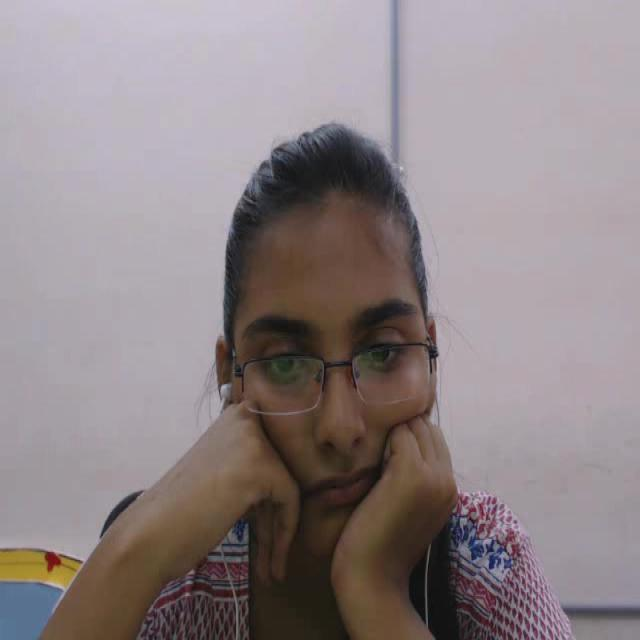Bored: (207, 101, 454, 558)
